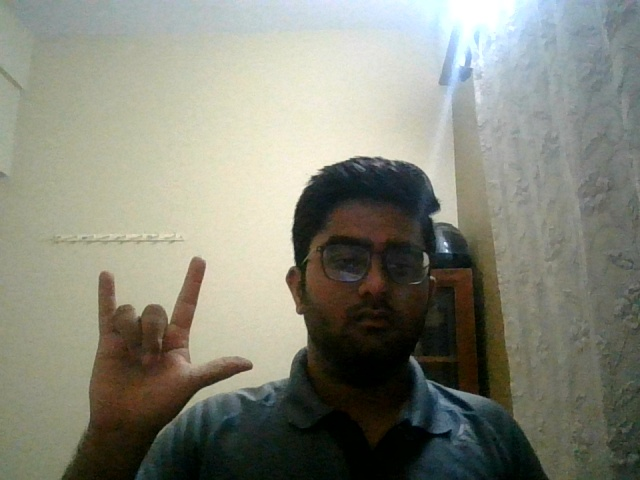I Love You: (73, 243, 267, 438)
